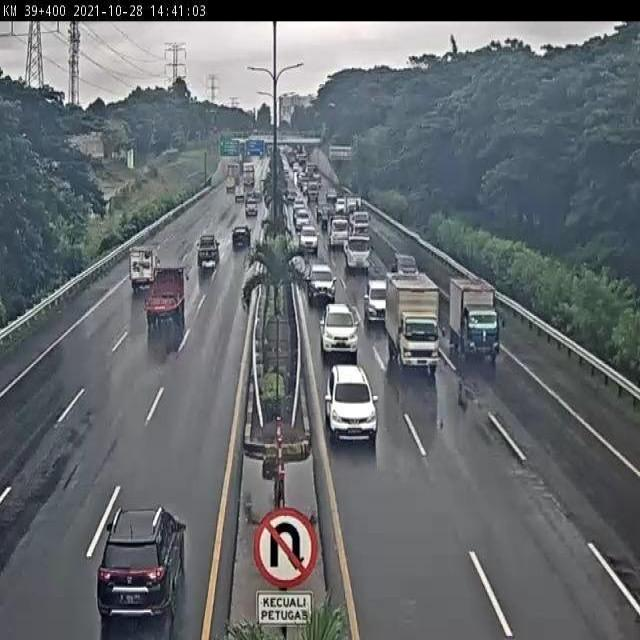car: (98, 506, 189, 634), (325, 365, 378, 444), (319, 302, 360, 358), (305, 263, 335, 305), (365, 278, 387, 326), (195, 232, 222, 268)
mid truck: (384, 270, 441, 374), (143, 264, 187, 328)
small truck: (449, 276, 501, 364), (127, 243, 160, 288)
